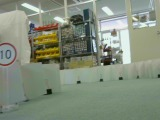speed_10: (1, 42, 17, 68)
